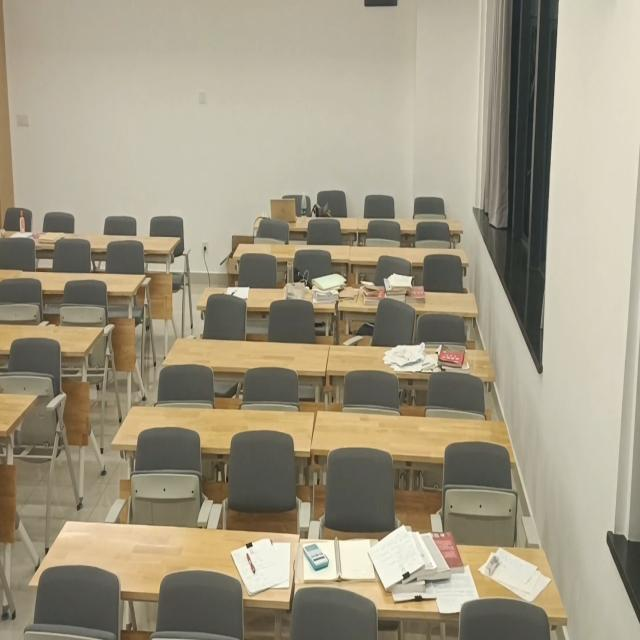Non-empty: (27, 517, 299, 610), (296, 538, 568, 615), (328, 344, 496, 382), (339, 285, 478, 316), (202, 283, 341, 308), (256, 216, 359, 234)
empty: (110, 406, 316, 456), (311, 411, 514, 461), (163, 333, 330, 376), (7, 268, 146, 298), (0, 320, 105, 356), (55, 233, 180, 257), (350, 245, 469, 267), (234, 241, 347, 263), (359, 216, 465, 230), (0, 389, 35, 431)
